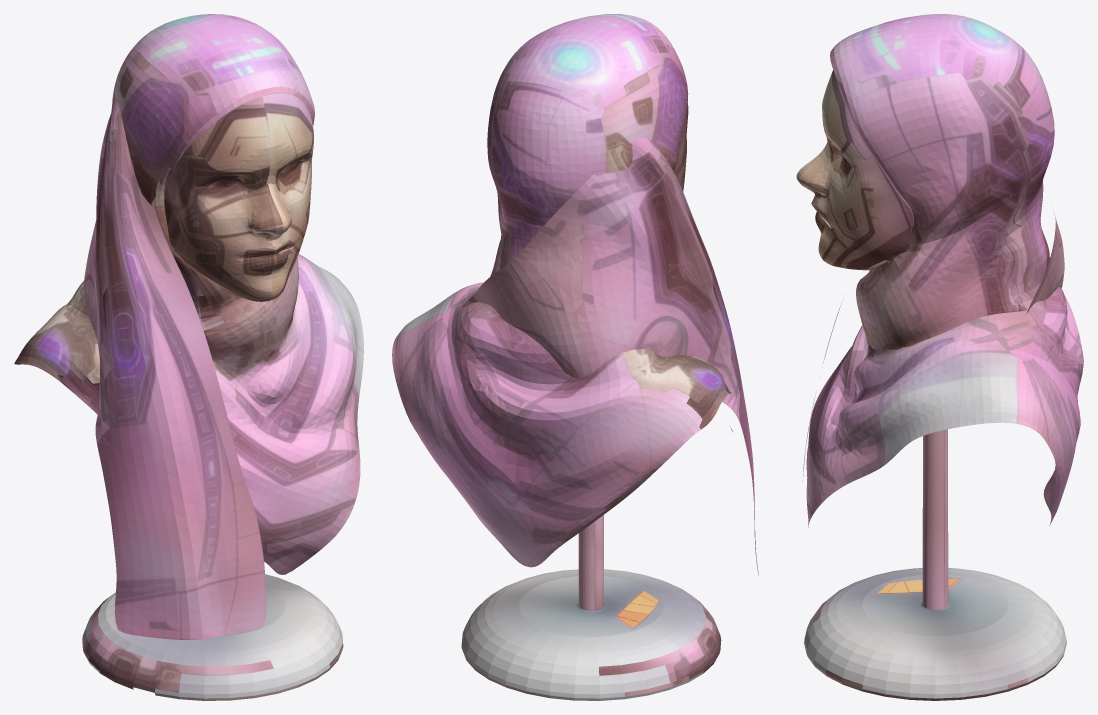
File: textured_paint3d.glb
The picture shows the model from 3 angles, left to right: view 1: azimuth 30°, elevation 25°; view 2: azimuth 150°, elevation 25°; view 3: azimuth 270°, elevation 25°; orthographic projection.
Parts seen in each view (by area): view 1: Node-Mesh; view 2: Node-Mesh; view 3: Node-Mesh.
Boxes of the visible parts, x1,y1,x2,y2 form: Node-Mesh: (14,14,363,700); Node-Mesh: (392,14,758,700); Node-Mesh: (796,14,1083,700).
Bounding box in the file's own units: 1.07 × 2 × 0.8639.
1 material, 1 textured.
